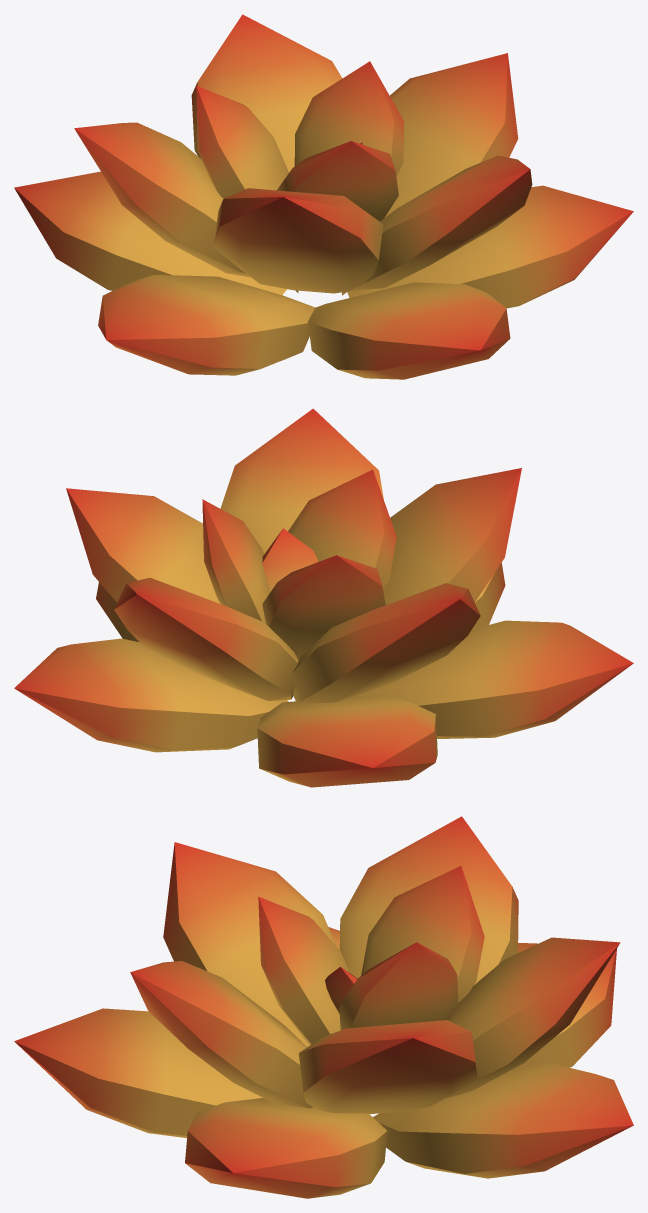
3 views of the same model, one above another, from view 1: azimuth 30°, elevation 25°; view 2: azimuth 150°, elevation 25°; view 3: azimuth 270°, elevation 25° (orthographic). The views are drawn at different scales.
Parts seen in each view (by area): view 1: LOD 0_16967760880170184947_4f521bcaeda9b9647b799715f43ad4b9; view 2: LOD 0_16967760880170184947_4f521bcaeda9b9647b799715f43ad4b9; view 3: LOD 0_16967760880170184947_4f521bcaeda9b9647b799715f43ad4b9.
Boxes of the visible parts, x1,y1,x2,y2 form: LOD 0_16967760880170184947_4f521bcaeda9b9647b799715f43ad4b9: (14,14,633,379); LOD 0_16967760880170184947_4f521bcaeda9b9647b799715f43ad4b9: (14,408,633,787); LOD 0_16967760880170184947_4f521bcaeda9b9647b799715f43ad4b9: (14,816,633,1198).
Size of the model in its own units: 0.8955 by 0.3443 by 0.8664.
